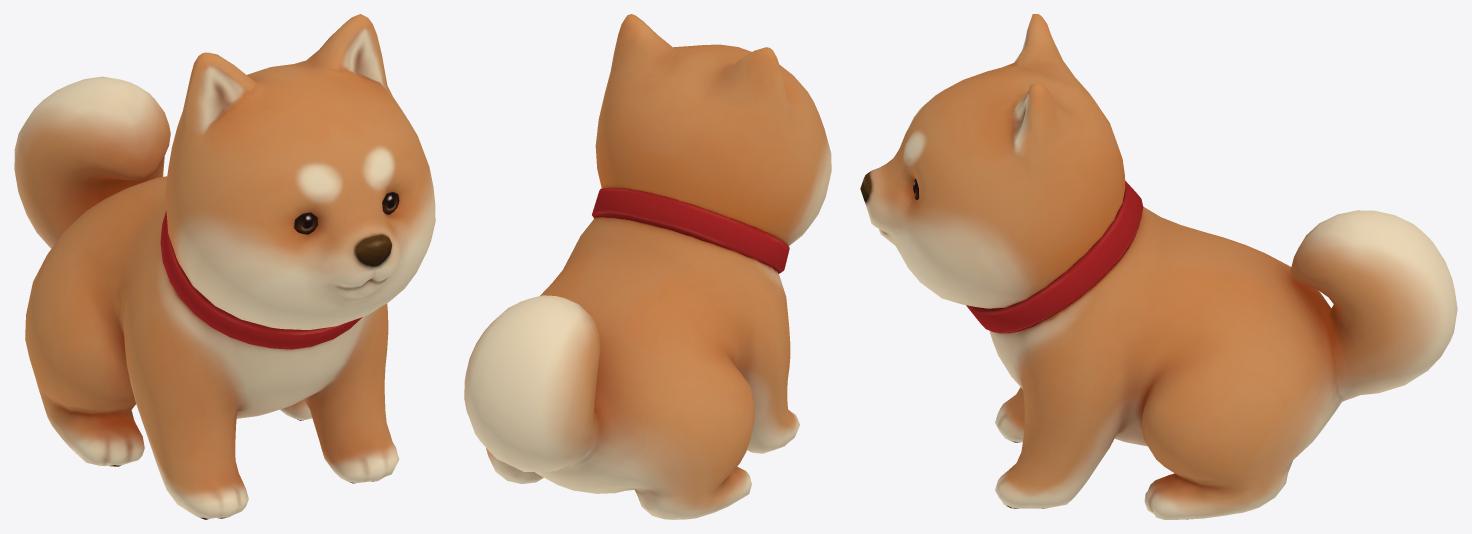
The model's file is Shiba.glb.
3 renders of one model, left to right at view 1: azimuth 30°, elevation 25°; view 2: azimuth 150°, elevation 25°; view 3: azimuth 270°, elevation 25°, orthographic. The views are drawn at different scales.
Parts seen in each view (by area): view 1: Box002, Group18985, Object001_default_0; view 2: Box002, Group18985; view 3: Box002, Group18985.
Part boxes in pixels (x1,y1,x2,y2): Box002: [14, 14, 435, 519]; Group18985: [160, 211, 362, 349]; Object001_default_0: [294, 192, 399, 234]; Box002: [464, 14, 831, 519]; Group18985: [592, 188, 789, 273]; Box002: [860, 14, 1457, 519]; Group18985: [966, 181, 1143, 333].
Size of the model in its own units: 0.9209 by 1.38 by 1.77.
1 material, 1 textured.
